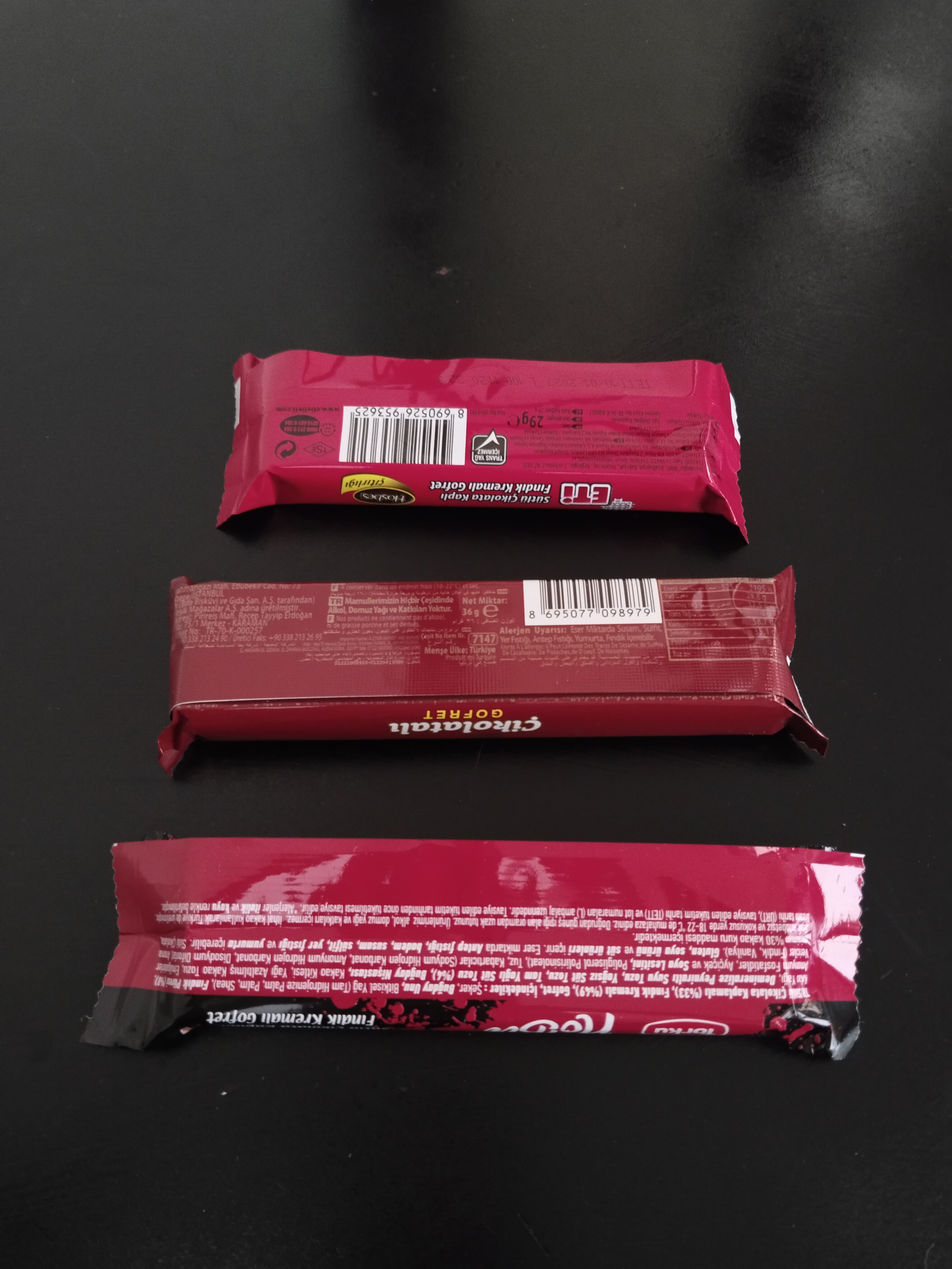centro_gofret: (162, 567, 823, 764)
eti_hosbes_gofret: (219, 349, 743, 536)
torku_nobir_gofret: (96, 836, 861, 1058)
